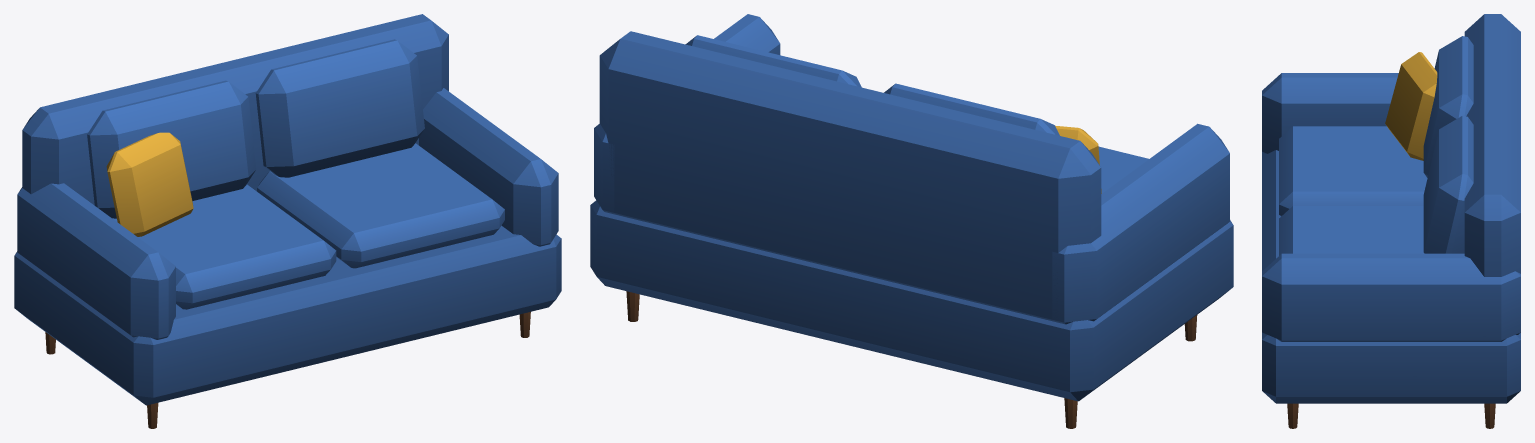
The model's file is sofa_02.fbx.
3 views of the same model, side by side, from view 1: azimuth 30°, elevation 25°; view 2: azimuth 150°, elevation 25°; view 3: azimuth 270°, elevation 25° (orthographic). The views are drawn at different scales.
Visible parts, largest first — view 1: sofa_02_LOD0; view 2: sofa_02_LOD0; view 3: sofa_02_LOD0.
Boxes of the visible parts, left/top/right/bottom form: sofa_02_LOD0: left=14, top=14, right=561, bottom=428; sofa_02_LOD0: left=590, top=14, right=1233, bottom=428; sofa_02_LOD0: left=1262, top=14, right=1520, bottom=428.
Size of what is drawn, in the model's own units: 1.7 by 0.92 by 0.92.
1 material, 1 textured.
